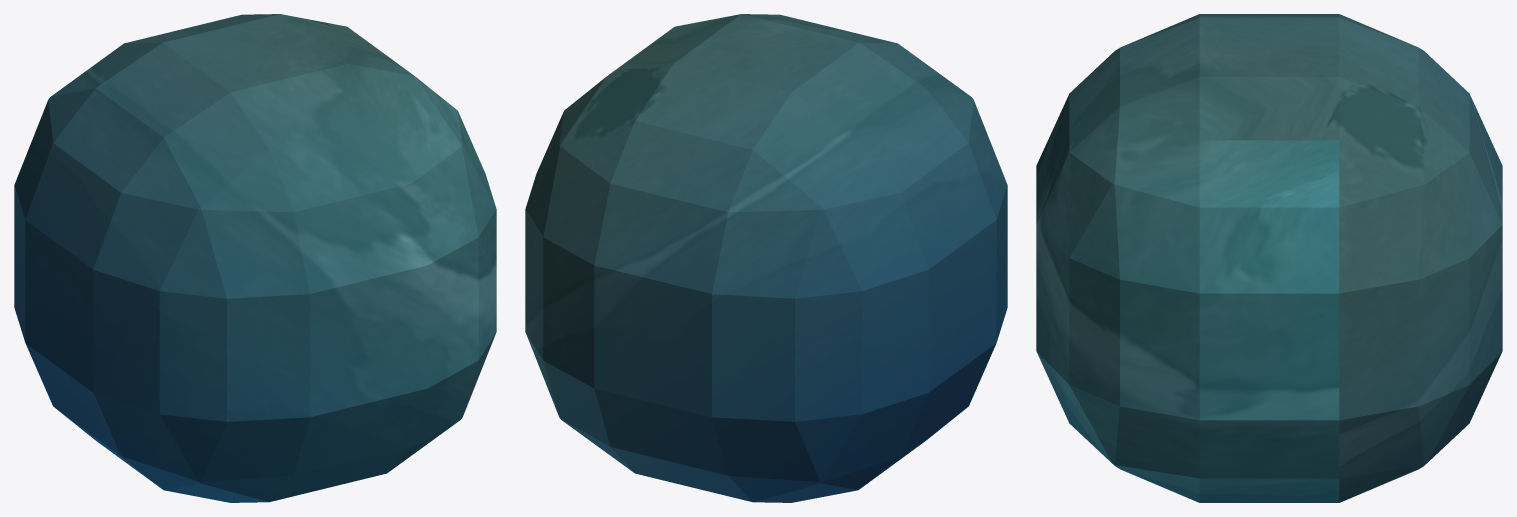
File: Tile1_24.obj
3 views of the same model, side by side, from view 1: azimuth 30°, elevation 25°; view 2: azimuth 150°, elevation 25°; view 3: azimuth 270°, elevation 25° (orthographic). The views are drawn at different scales.
Visible parts, largest first — view 1: Cube; view 2: Cube; view 3: Cube.
Part boxes in pixels (x1=…): Cube: x1=14, y1=14, x2=496, y2=502; Cube: x1=525, y1=14, x2=1007, y2=502; Cube: x1=1036, y1=14, x2=1502, y2=502.
Bounding box in the file's own units: 2 × 2 × 2.
1 material, 1 textured.
